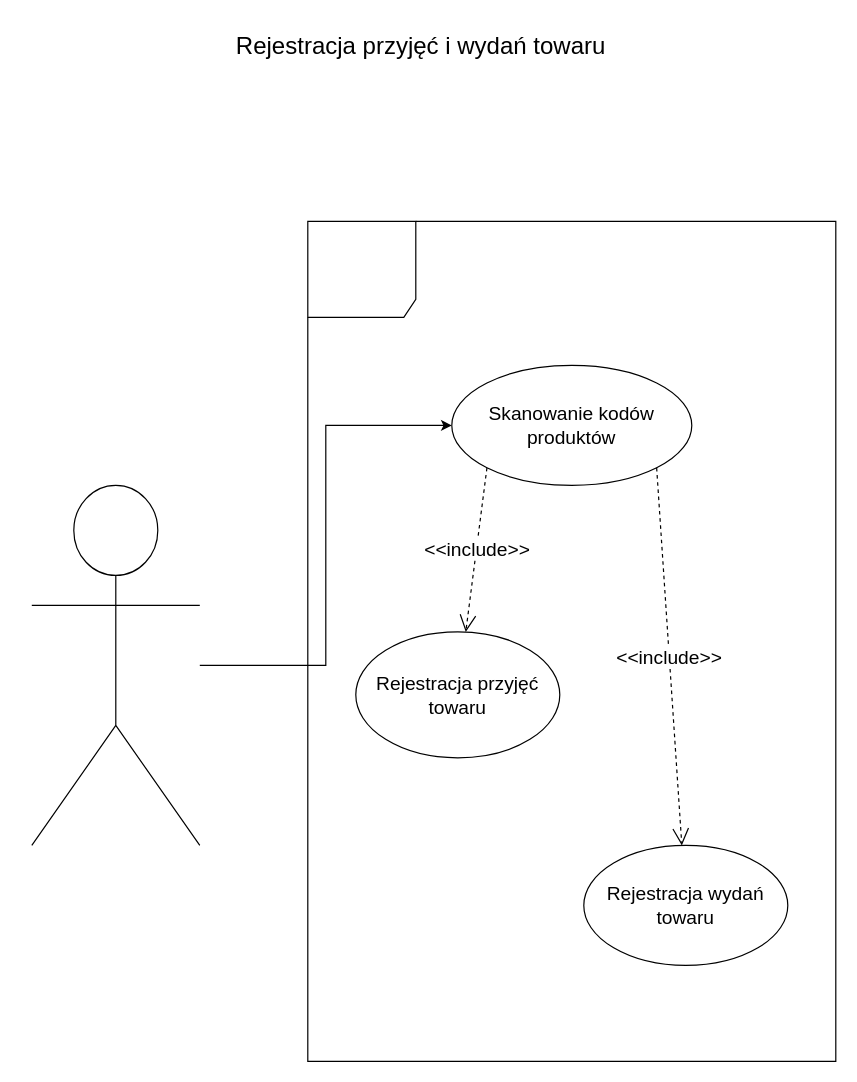
This 857x1082 diagram has some shape labels left out. Here are the shapes that lost their labels. From the top down, the box of each, then its label:
(307, 220, 836, 1061): System: Operacje magazynowe
(31, 484, 200, 845): Operator magazynu
